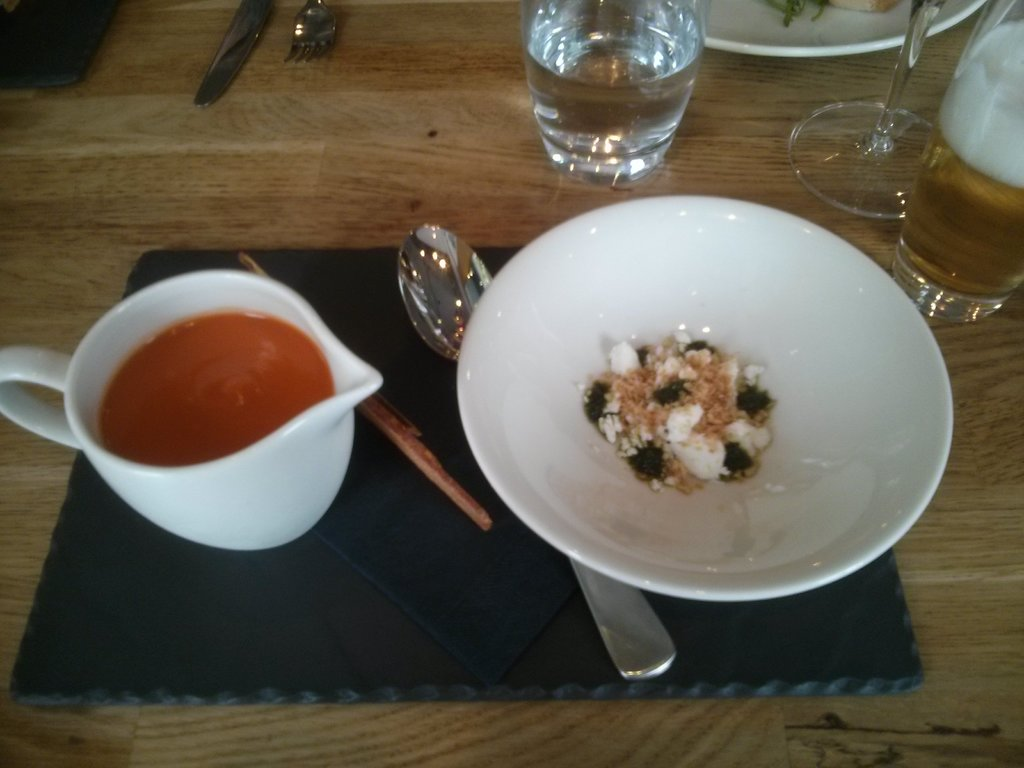plate: (437, 186, 954, 620)
